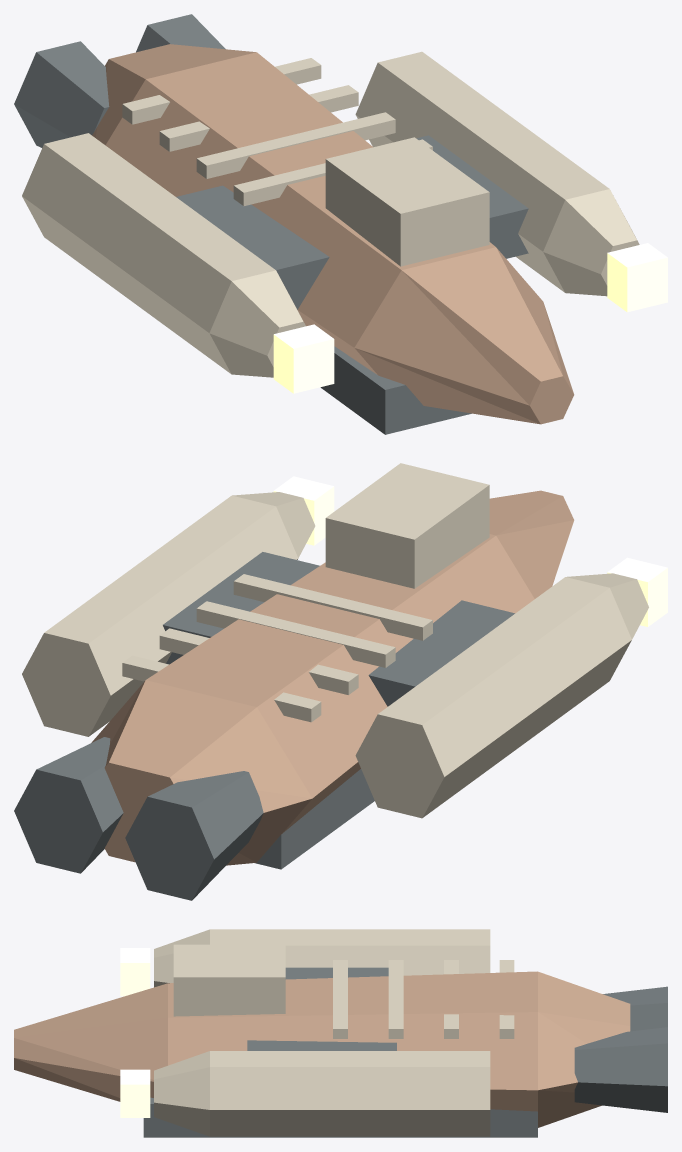
3 renders of one model, top to bottom at view 1: azimuth 30°, elevation 25°; view 2: azimuth 150°, elevation 25°; view 3: azimuth 270°, elevation 25°, orthographic. The views are drawn at different scales.
Size of the model in its own units: 4.06 by 1.81 by 7.28.
